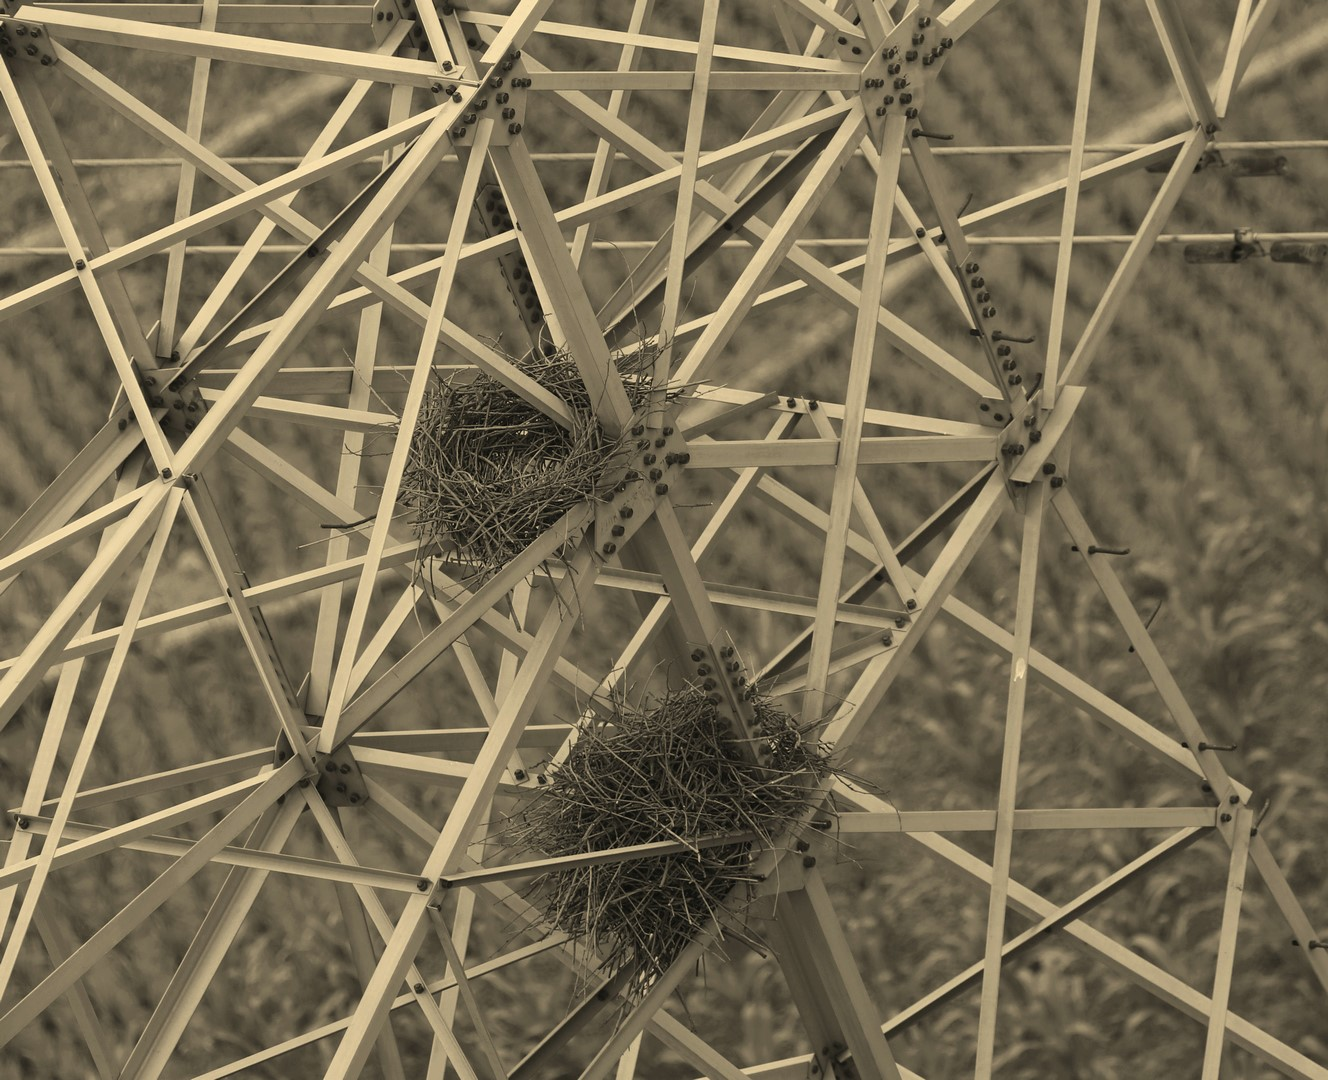niaowo: (506, 633, 844, 947), (388, 327, 674, 581)
